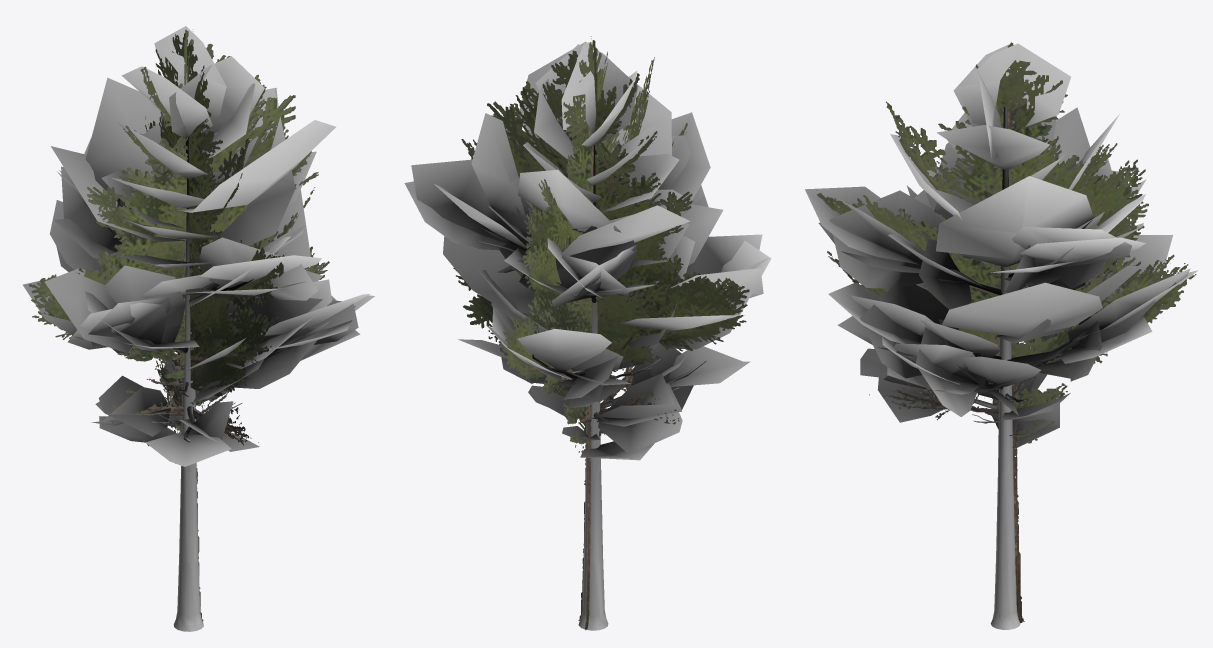
Rendered from Pine_02.fbx.
3 renders of one model, left to right at view 1: azimuth 30°, elevation 25°; view 2: azimuth 150°, elevation 25°; view 3: azimuth 270°, elevation 25°, orthographic. The views are drawn at different scales.
Parts seen in each view (by area): view 1: Pine_02_LOD0, Billboard_Pine_02; view 2: Pine_02_LOD0, Billboard_Pine_02; view 3: Pine_02_LOD0, Billboard_Pine_02.
Boxes of the visible parts, x1,y1,x2,y2 form: Pine_02_LOD0: (23,26,374,631); Billboard_Pine_02: (29,29,329,621); Pine_02_LOD0: (404,41,771,630); Billboard_Pine_02: (453,36,749,630); Pine_02_LOD0: (805,43,1197,629); Billboard_Pine_02: (816,42,1196,622).
Size of what is drawn, in the model's own units: 330 by 565 by 349.
